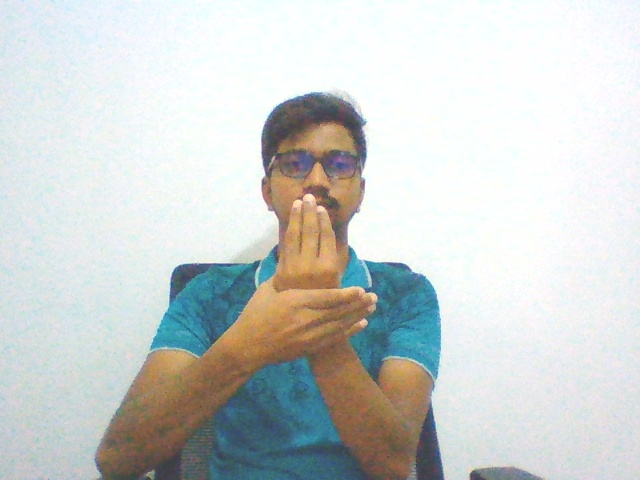tree: (219, 187, 386, 378)
